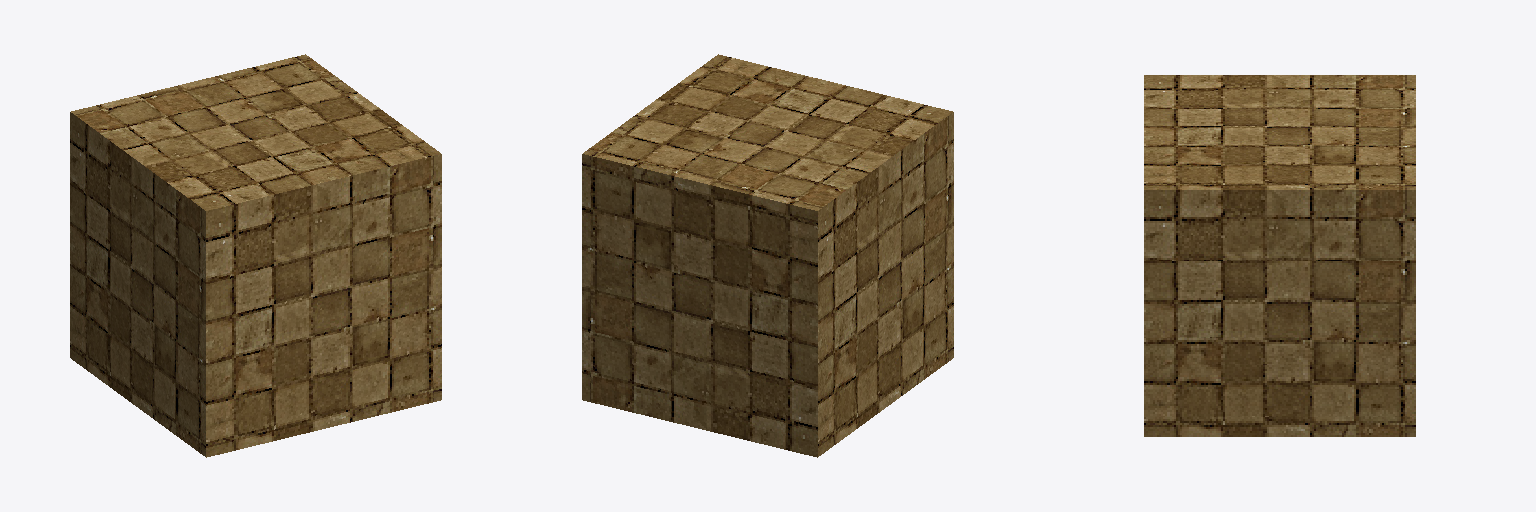
3 renders of one model, left to right at view 1: azimuth 30°, elevation 25°; view 2: azimuth 150°, elevation 25°; view 3: azimuth 270°, elevation 25°, orthographic.
Visible parts, largest first — view 1: Cube; view 2: Cube; view 3: Cube.
Boxes of the visible parts, box(x1,y1,x2,y2) form: Cube: box(70, 54, 441, 457); Cube: box(582, 54, 953, 457); Cube: box(1144, 75, 1415, 436).
Bounding box in the file's own units: 2 × 2 × 2.
Materials: 1 (1 with a texture image).